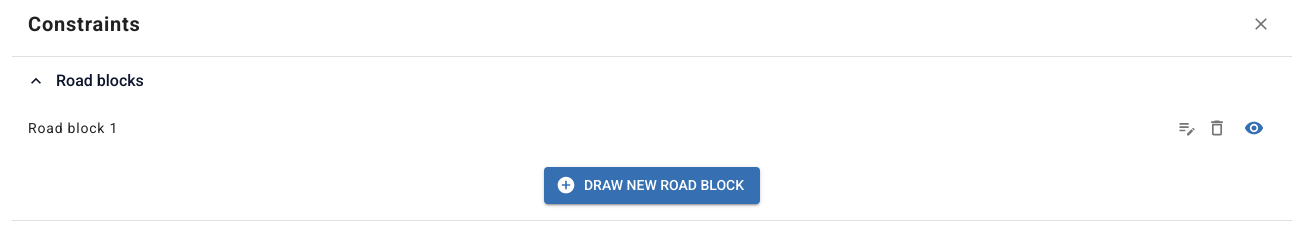
Test case: ConstraintsView › Constraint Actions › enters edit mode when edit button is clicked
Check: the text "Road block 1" is shown, box [28,120,118,136]
Click the button named "Edit constraint name" at (1187, 128), box [1172,113,1202,143]
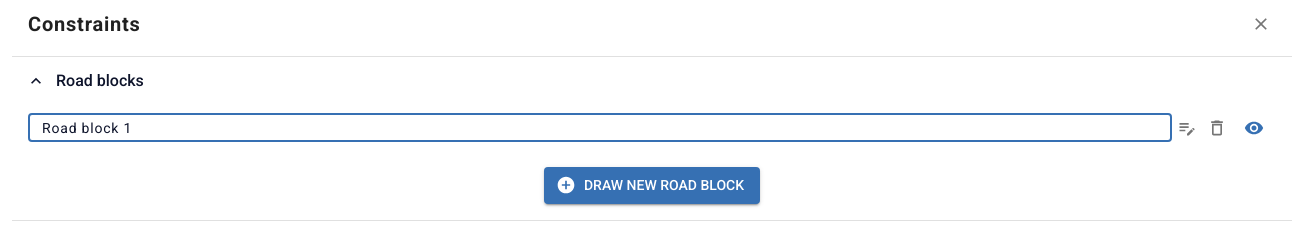
Check: the field showing "Road block 1" is shown, box [28,114,1172,142]
